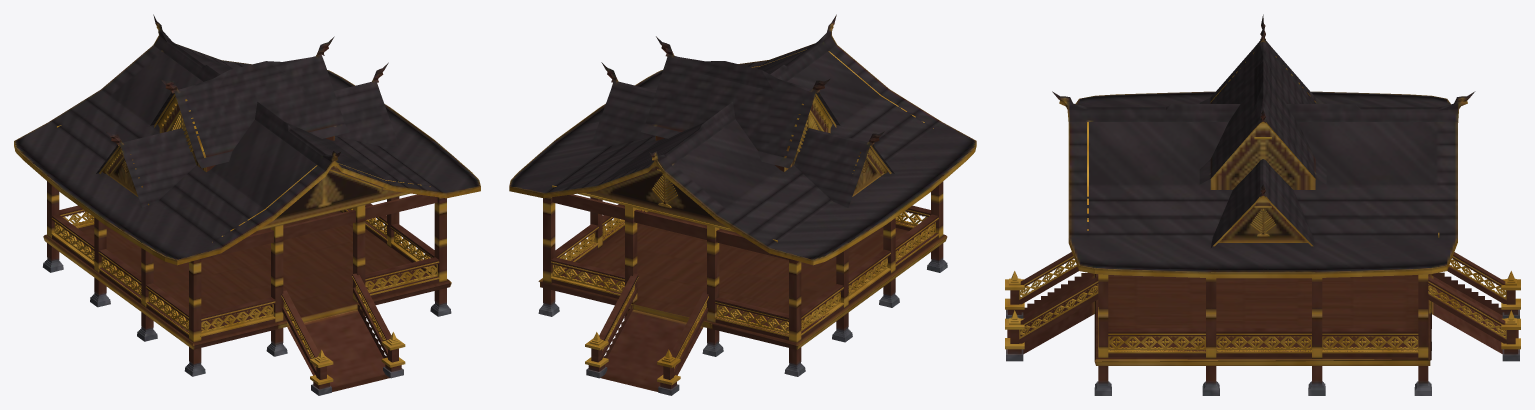
File: pavilion-pusaka.glb
3 renders of one model, left to right at view 1: azimuth 30°, elevation 25°; view 2: azimuth 150°, elevation 25°; view 3: azimuth 270°, elevation 25°, orthographic. The views are drawn at different scales.
Parts seen in each view (by area): view 1: SM_Pavilion; view 2: SM_Pavilion; view 3: SM_Pavilion.
Boxes of the visible parts, x1,y1,x2,y2 form: SM_Pavilion: (14, 14, 480, 395); SM_Pavilion: (509, 14, 976, 395); SM_Pavilion: (1005, 14, 1520, 395).
Size of the model in its own units: 2.57 by 1.82 by 3.09.
Materials: 1 (1 with a texture image).
